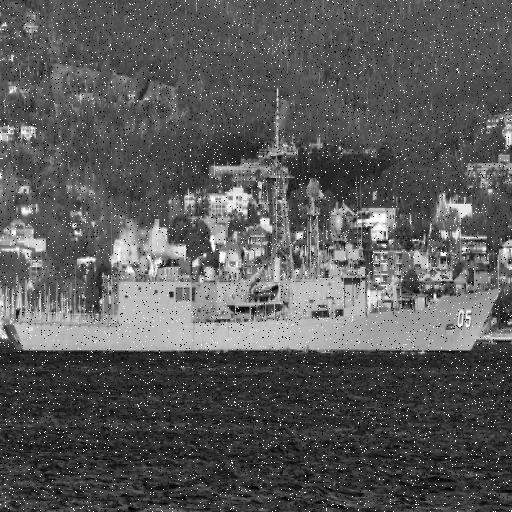Fragata: (1, 88, 505, 359)
